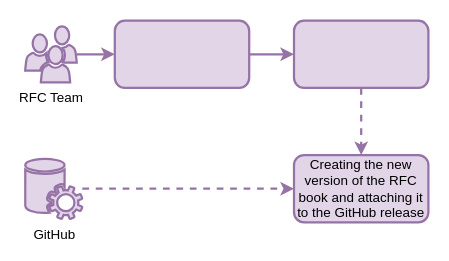
This 449x261 diagram has some shape labels left out. Each missing label, with the box of its shape:
Creating a GitHub release: (292, 19, 429, 88)
Preparing release document and moving RFC to releases folder: (113, 19, 250, 88)
